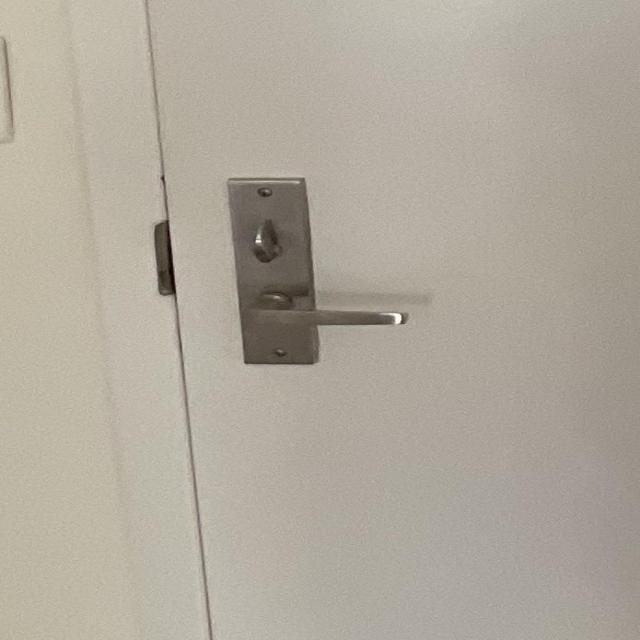door_handle: (224, 280, 417, 340)
